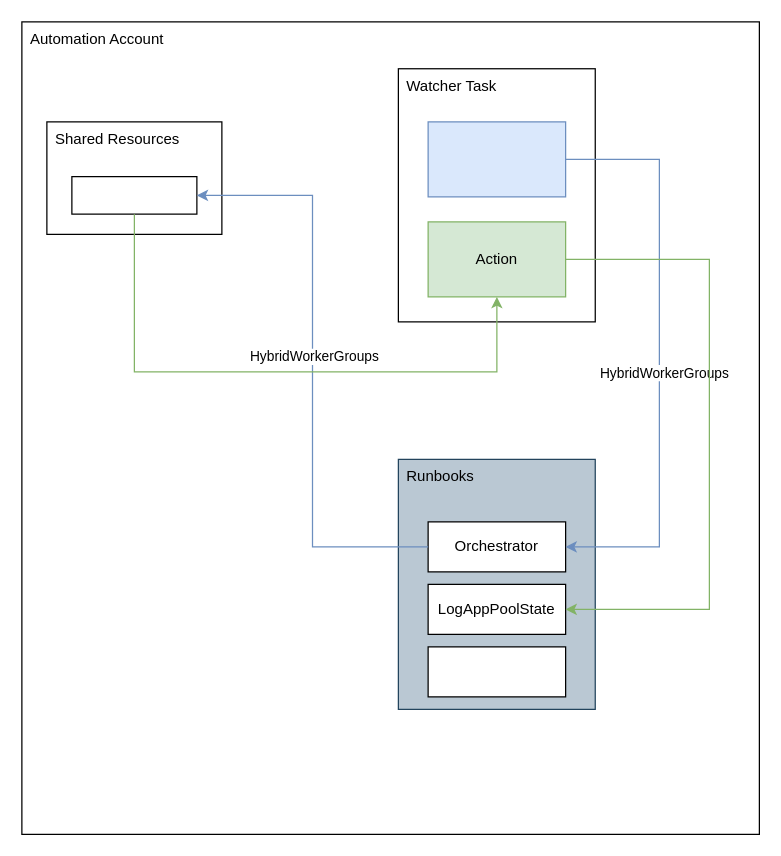
Some shapes in this 781 by 856 pixel diagram are drawn without their labels. The centre of each missing label's shape, as x and y in pixels:
"LogWebSiteState" goes at pixel 496 671.
"Variable" goes at pixel 134 194.
"Watcher" goes at pixel 496 159.
